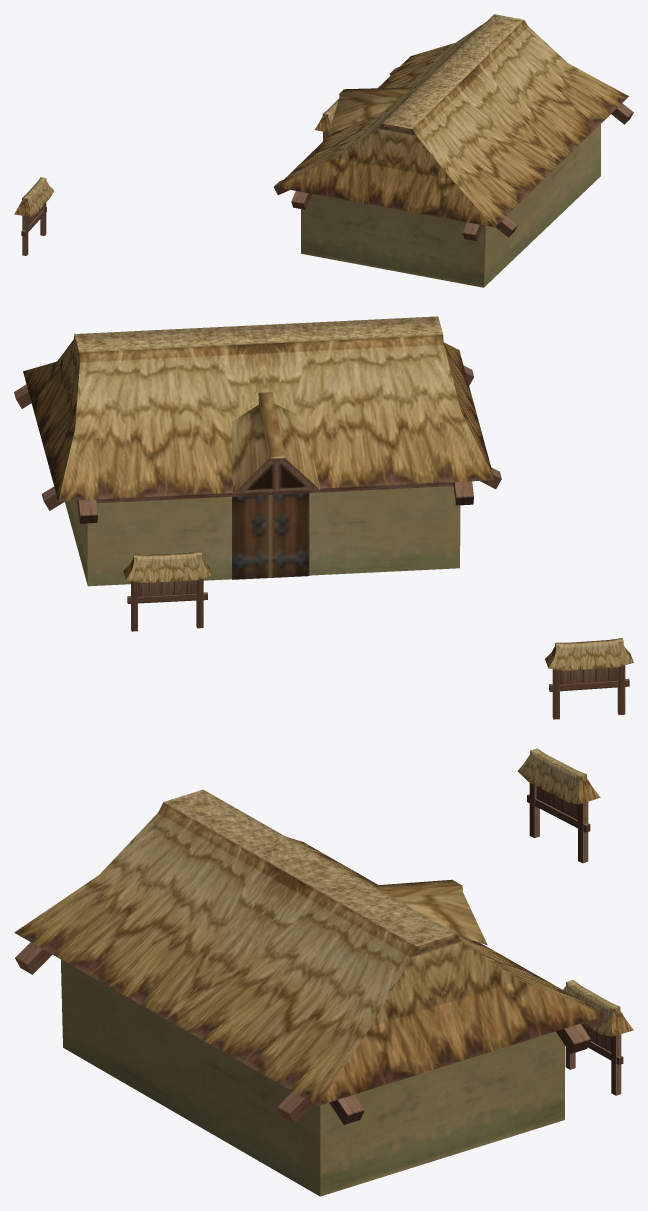
Rendered from Area_13_26.fbx.
3 renders of one model, top to bottom at view 1: azimuth 30°, elevation 25°; view 2: azimuth 150°, elevation 25°; view 3: azimuth 270°, elevation 25°, orthographic. The views are drawn at different scales.
Parts seen in each view (by area): view 1: Area_13_26; view 2: Area_13_26; view 3: Area_13_26.
Boxes of the visible parts, x1=… form: Area_13_26: x1=14, y1=14, x2=633, y2=287; Area_13_26: x1=14, y1=316, x2=633, y2=719; Area_13_26: x1=14, y1=748, x2=633, y2=1196.
Size of the model in its own units: 2862 by 767 by 1875.
